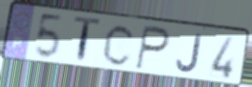4: (208, 34, 235, 81)
5: (32, 11, 67, 62)
C: (101, 23, 137, 68)
J: (174, 33, 204, 75)
P: (133, 23, 172, 73)
T: (72, 15, 103, 67)
